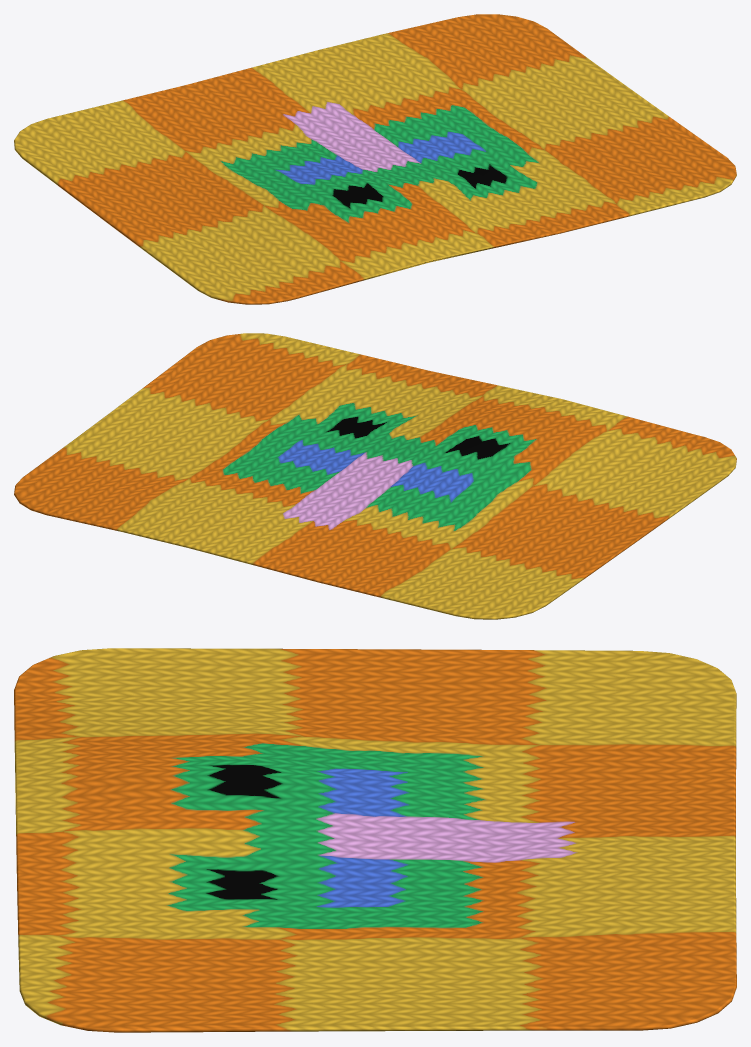
File: carpet.glb
3 renders of one model, top to bottom at view 1: azimuth 30°, elevation 25°; view 2: azimuth 150°, elevation 25°; view 3: azimuth 270°, elevation 25°, orthographic. The views are drawn at different scales.
Parts seen in each view (by area): view 1: carpet; view 2: carpet; view 3: carpet.
Boxes of the visible parts, x1=… form: carpet: x1=14, y1=14, x2=736, y2=304; carpet: x1=14, y1=333, x2=736, y2=619; carpet: x1=14, y1=648, x2=736, y2=1032.
Size of the model in its own units: 2.02 by 0.0527 by 1.61.
Materials: 1 (1 with a texture image).
